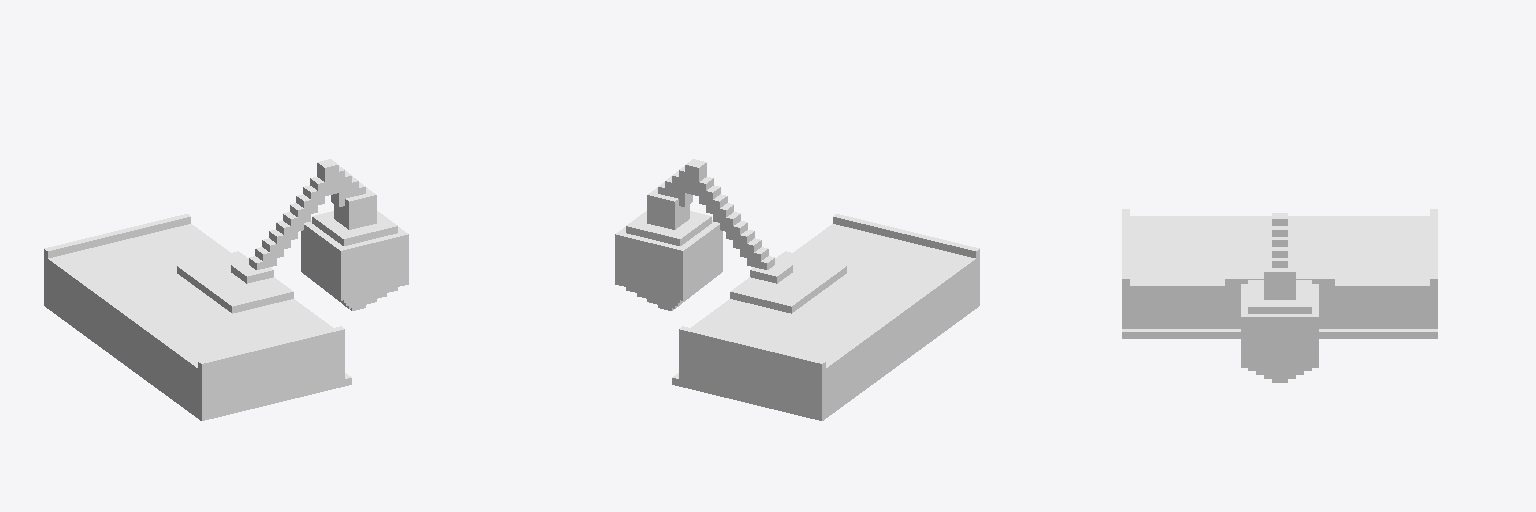
The model's file is Drill.obj.
The picture shows the model from 3 angles: view 1: azimuth 30°, elevation 25°; view 2: azimuth 150°, elevation 25°; view 3: azimuth 270°, elevation 25°; orthographic projection.
Parts seen in each view (by area): view 1: object 1; view 2: object 1; view 3: object 1.
Boxes of the visible parts, x1=… form: object 1: x1=44, y1=159, x2=408, y2=420; object 1: x1=615, y1=159, x2=979, y2=420; object 1: x1=1122, y1=209, x2=1437, y2=382.
Bounding box in the file's own units: 3.9 × 2.1 × 4.